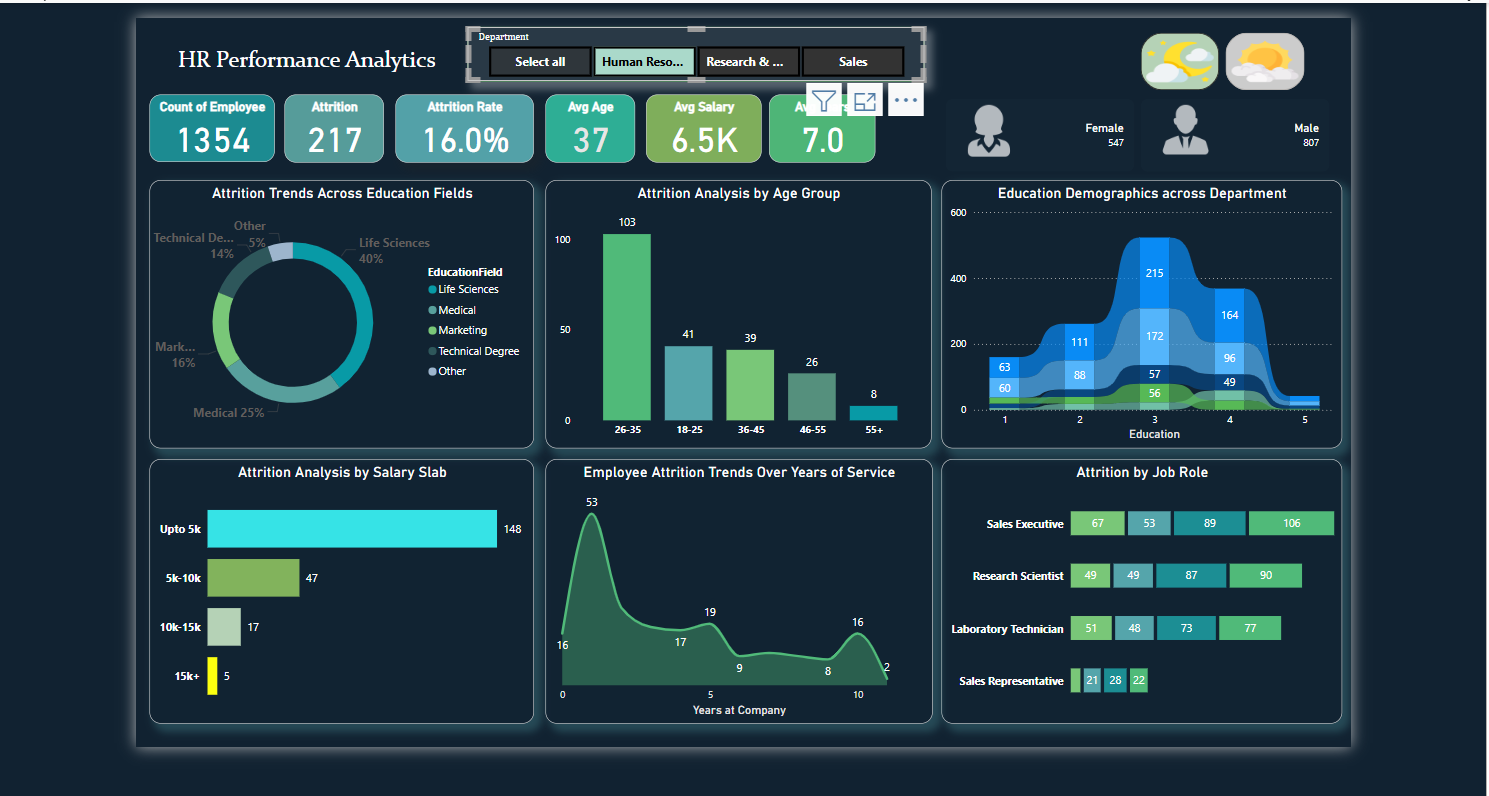

The page's visual inventory and layout, read from the dashboard file:
{"tool":"powerbi","page":{"name":"Page 1","canvas":[1500,900],"ordinal":0},"visuals":[{"type":"shape","box":[0,0,1500,900],"z":0},{"type":"card","title":"Count of Employee","fields":{"Values":["CountNonNull(HR_Analytics.EmpID)"]},"box":[16,94,154.4,83.4],"z":1000},{"type":"card","title":"Attrition","fields":{"Values":["Sum(HR_Analytics.AttritionCount)"]},"box":[183,93.6,122.9,83.8],"z":2000},{"type":"card","title":"Attrition Rate","fields":{"Values":["HR_Analytics.AttritionRate"]},"box":[321.3,93.6,170.4,83.8],"z":3000},{"type":"card","title":"Avg Age","fields":{"Values":["Avg(HR_Analytics.Age)"]},"box":[505.7,93.6,110.4,83.8],"z":4000},{"type":"card","title":"Avg Salary","fields":{"Values":["Avg(HR_Analytics.MonthlyIncome)"]},"box":[630,93.6,142.5,83.8],"z":5000},{"type":"card","title":"Avg Years","fields":{"Values":["Avg(HR_Analytics.YearsAtCompany)"]},"box":[782.3,93.6,131.3,83.8],"z":6000},{"type":"donutChart","title":"Attrition Trends Across Education Fields","fields":{"Category":["HR_Analytics.EducationField"],"Y":["Sum(HR_Analytics.AttritionCount)"]},"box":[16.8,199.8,474.9,331.1],"z":7000},{"type":"columnChart","title":"Attrition Analysis by Age Group","fields":{"Category":["HR_Analytics.AgeGroup"],"Y":["Sum(HR_Analytics.AttritionCount)"]},"box":[505.7,199.8,476.3,331.1],"z":8000},{"type":"barChart","title":"Attrition Analysis by Salary Slab","fields":{"Category":["HR_Analytics.SalarySlab"],"Y":["Sum(HR_Analytics.AttritionCount)"]},"box":[16.8,544.8,474.9,326.9],"z":9000},{"type":"barChart","title":"Attrition by Job Role","fields":{"Y":["CountNonNull(HR_Analytics.JobRole)"],"Series":["HR_Analytics.JobSatisfaction"],"Category":["HR_Analytics.JobRole"]},"box":[994.6,544.8,494.5,326.9],"z":10000},{"type":"areaChart","title":"Employee Attrition Trends Over Years of Service","fields":{"Category":["HR_Analytics.YearsAtCompany"],"Y":["Sum(HR_Analytics.AttritionCount)"]},"box":[505.7,544.8,477.7,326.9],"z":11000},{"type":"slicer","fields":{"Values":["HR_Analytics.Department"]},"box":[409.3,11.2,564.3,67.4],"z":12000},{"type":"ribbonChart","title":"Education Demographics across Department ","fields":{"Category":["HR_Analytics.Education"],"Y":["CountNonNull(HR_Analytics.Department)"],"Series":["HR_Analytics.EducationField"]},"box":[994.6,199.8,494.5,331.1],"z":13000},{"type":"image","box":[1260.2,102.3,73.4,71.9],"z":14000},{"type":"image","box":[1012.5,102.3,79.7,74.2],"z":15000},{"type":"advancedSlicerVisual","fields":{"Values":["HR_Analytics.Gender"]},"box":[994,94,484,100],"z":16000},{"type":"advancedSlicerVisual","fields":{"Values":["Dark_Mode.Label"]},"box":[1235.4,12.5,212.5,81.2],"z":17000},{"type":"shape","box":[27.4,11.3,366.1,79],"z":18000}]}

Visuals, with their boxes on the page's 1500x900 design canvas (x1, y1, x2, y2). These are canvas units, not pixel positions in the 1489x796 screenshot, which may show the page scaled, cropped or inside an application window:
shape: l=0, t=0, r=1500, b=900
"Count of Employee" card: l=16, t=94, r=170, b=177
"Attrition" card: l=183, t=94, r=306, b=177
"Attrition Rate" card: l=321, t=94, r=492, b=177
"Avg Age" card: l=506, t=94, r=616, b=177
"Avg Salary" card: l=630, t=94, r=772, b=177
"Avg Years" card: l=782, t=94, r=914, b=177
"Attrition Trends Across Education Fields" donutChart: l=17, t=200, r=492, b=531
"Attrition Analysis by Age Group" columnChart: l=506, t=200, r=982, b=531
"Attrition Analysis by Salary Slab" barChart: l=17, t=545, r=492, b=872
"Attrition by Job Role" barChart: l=995, t=545, r=1489, b=872
"Employee Attrition Trends Over Years of Service" areaChart: l=506, t=545, r=983, b=872
slicer - HR_Analytics.Department: l=409, t=11, r=974, b=79
"Education Demographics across Department " ribbonChart: l=995, t=200, r=1489, b=531
image: l=1260, t=102, r=1334, b=174
image: l=1012, t=102, r=1092, b=176
advancedSlicerVisual - HR_Analytics.Gender: l=994, t=94, r=1478, b=194
advancedSlicerVisual - Dark_Mode.Label: l=1235, t=12, r=1448, b=94
shape: l=27, t=11, r=394, b=90
